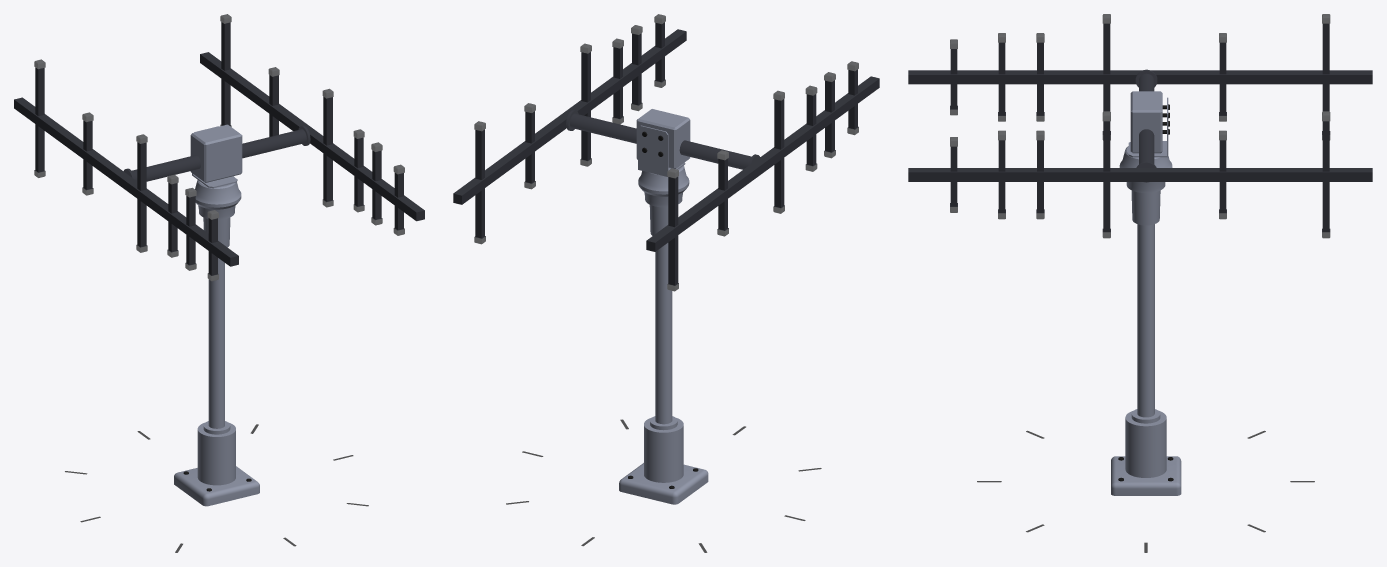
The model's file is rotatormodel.gltf.
3 views of the same model, side by side, from view 1: azimuth 30°, elevation 25°; view 2: azimuth 150°, elevation 25°; view 3: azimuth 270°, elevation 25° (orthographic). The views are drawn at different scales.
Visible parts, largest first — view 1: elevation_cylinder_1, basecylinder_1, azimuthcylinder_1, elevation_cylinder, elevation_cylinder_2; view 2: elevation_cylinder_1, basecylinder_1, azimuthcylinder_1, elevation_cylinder, elevation_cylinder_2; view 3: elevation_cylinder_1, basecylinder_1, azimuthcylinder_1, elevation_cylinder_2, elevation_cylinder.
Part boxes in pixels (left/top/right/bottom): elevation_cylinder_1: left=14, top=22, right=424, bottom=275; basecylinder_1: left=174, top=205, right=259, bottom=506; azimuthcylinder_1: left=190, top=124, right=242, bottom=209; elevation_cylinder: left=123, top=125, right=310, bottom=181; elevation_cylinder_2: left=34, top=14, right=404, bottom=281; elevation_cylinder_1: left=453, top=22, right=879, bottom=285; basecylinder_1: left=619, top=192, right=708, bottom=504; azimuthcylinder_1: left=636, top=109, right=690, bottom=196; elevation_cylinder: left=566, top=110, right=759, bottom=169; elevation_cylinder_2: left=474, top=14, right=858, bottom=291; elevation_cylinder_1: left=908, top=23, right=1372, bottom=232; basecylinder_1: left=1111, top=182, right=1181, bottom=495; azimuthcylinder_1: left=1119, top=91, right=1172, bottom=167; elevation_cylinder_2: left=950, top=14, right=1330, bottom=238; elevation_cylinder: left=1135, top=69, right=1157, bottom=182.
Bounding box in the file's own units: 9.63 × 13.14 × 13.25.
